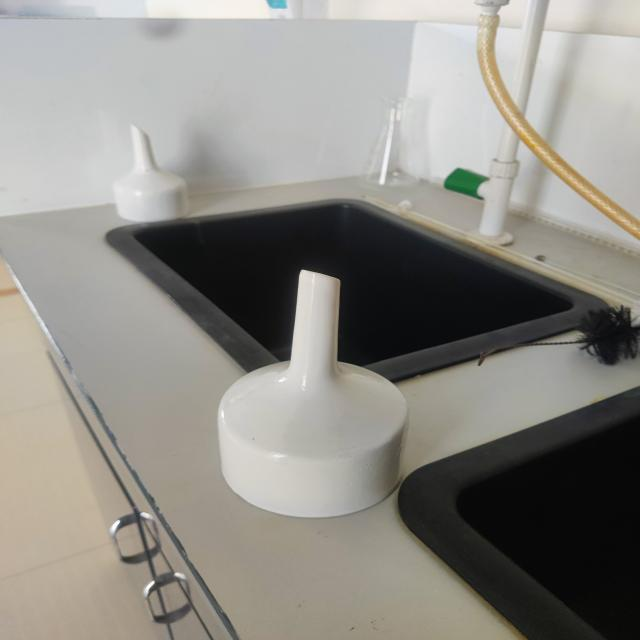Buchner_Funnel: (180, 255, 454, 536), (94, 110, 217, 242)
